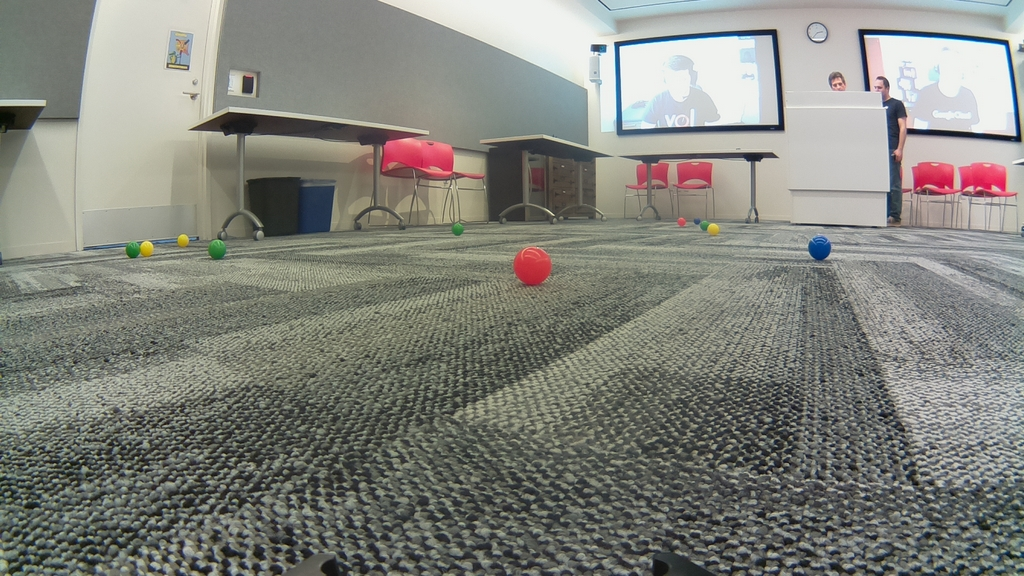ball: (807, 237, 831, 260)
